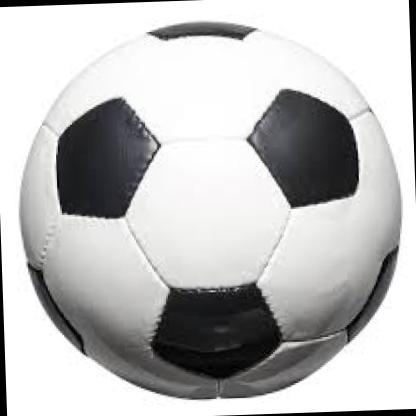ball: (13, 13, 410, 406)
